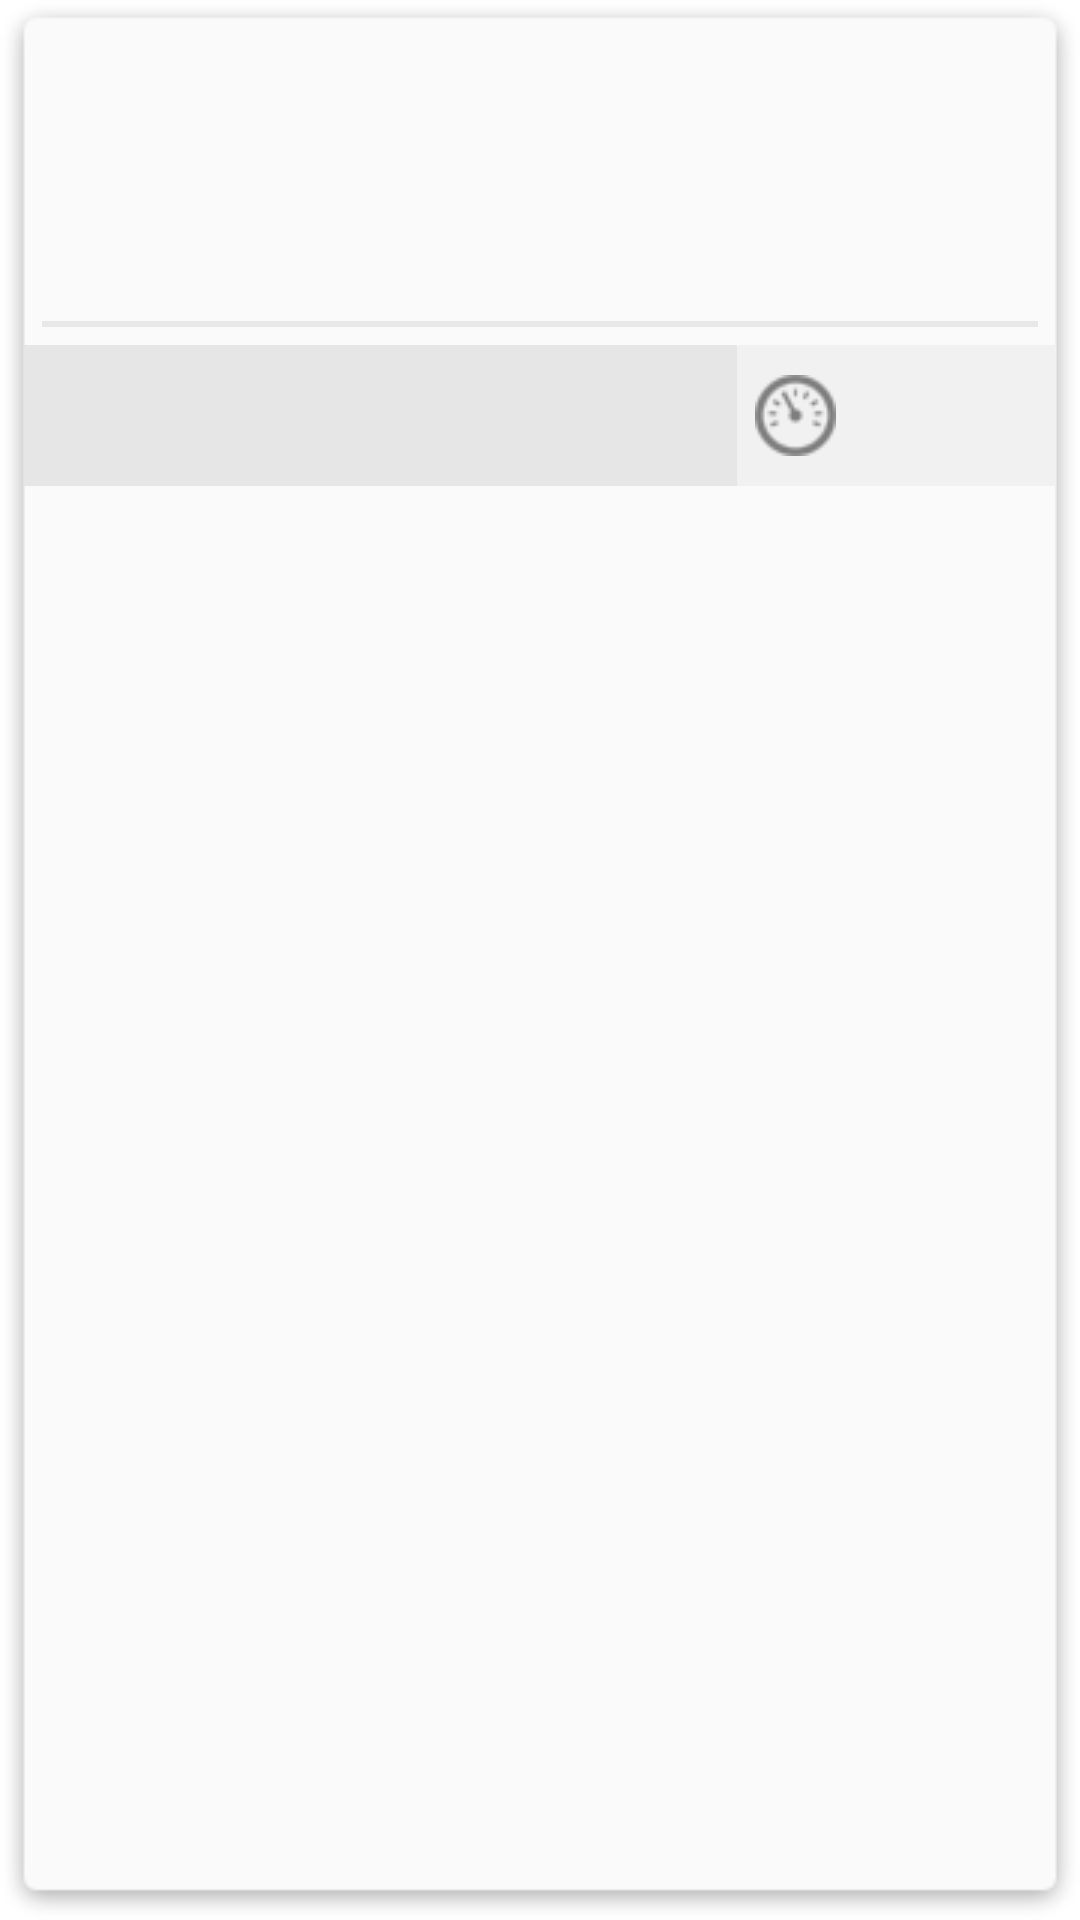

Locate icon controls on the screen. Image size 1080px x 1920px, boxes as (x1, y1, x2, y2).
Speed: (755, 375, 836, 456)
